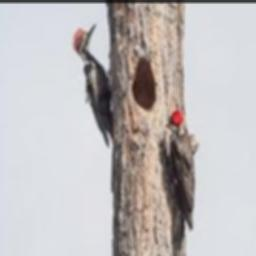Woodpecker: (71, 21, 113, 146), (164, 109, 195, 256)
